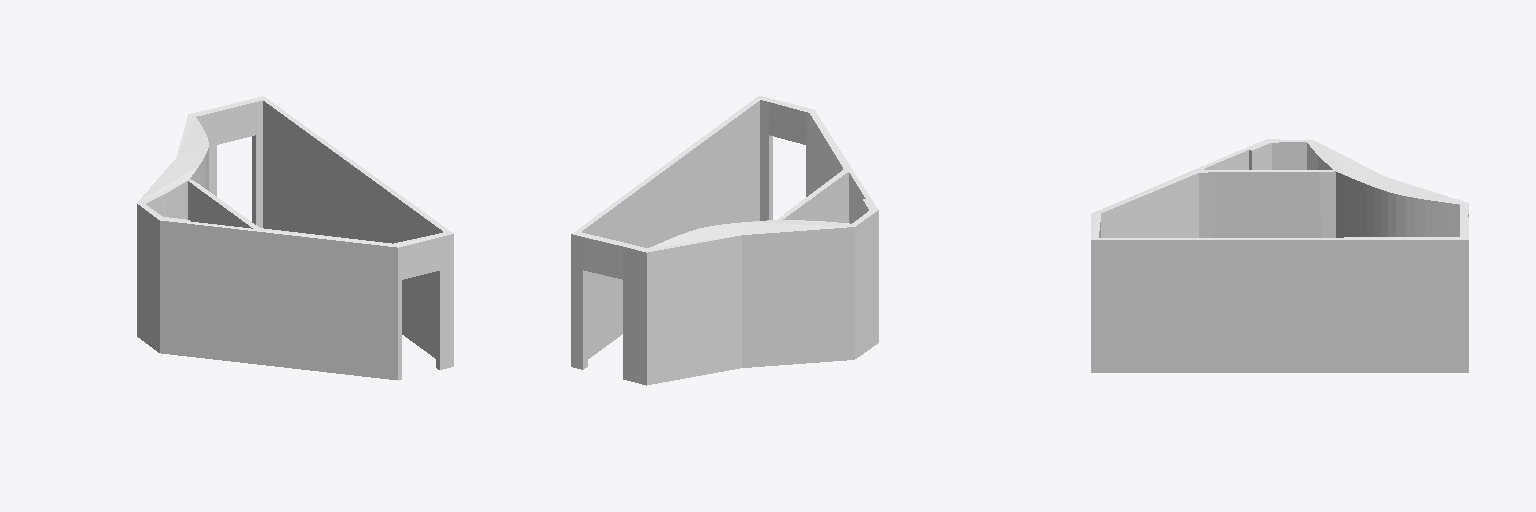
The model's file is Labroom_and_plank.obj.
The picture shows the model from 3 angles: view 1: azimuth 30°, elevation 25°; view 2: azimuth 150°, elevation 25°; view 3: azimuth 270°, elevation 25°; orthographic projection.
Visible parts, largest first — view 1: Line006 (2); view 2: Line006 (2); view 3: Line006 (2), Door003 (2), Door2 (2).
Boxes of the visible parts, box(x1,y1,x2,y2) form: Line006 (2): box(137, 96, 453, 380); Line006 (2): box(571, 96, 878, 385); Line006 (2): box(1091, 139, 1468, 372); Door003 (2): box(1280, 213, 1321, 237); Door2 (2): box(1219, 212, 1248, 237).
Bounding box in the file's own units: 7.45 × 4.62 × 11.78.